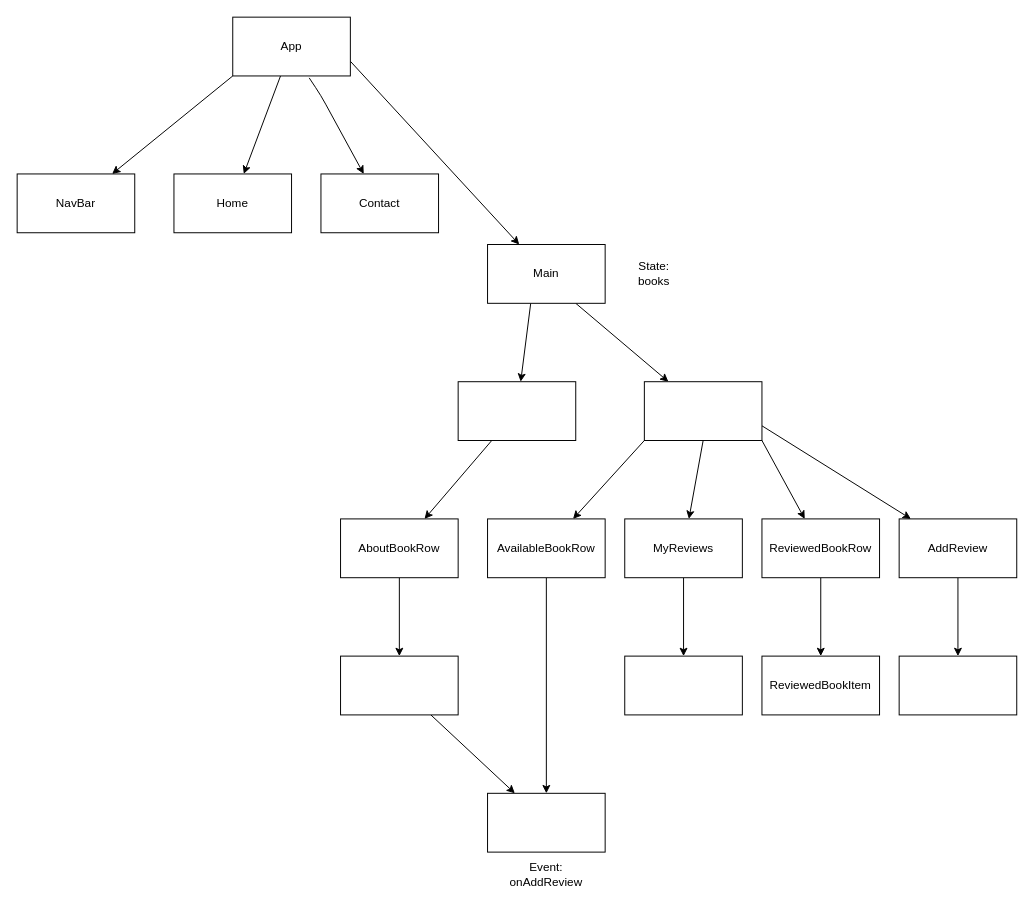
Some shapes in this 1034 by 907 pixel diagram are drawn without their labels. Each missing label, with the centre of its shape:
About: (x=516, y=411)
AboutBookCard: (x=399, y=685)
Account: (x=702, y=411)
AddReviewForm: (x=957, y=685)
AvailableBookItem: (x=546, y=822)
Review: (x=683, y=685)
